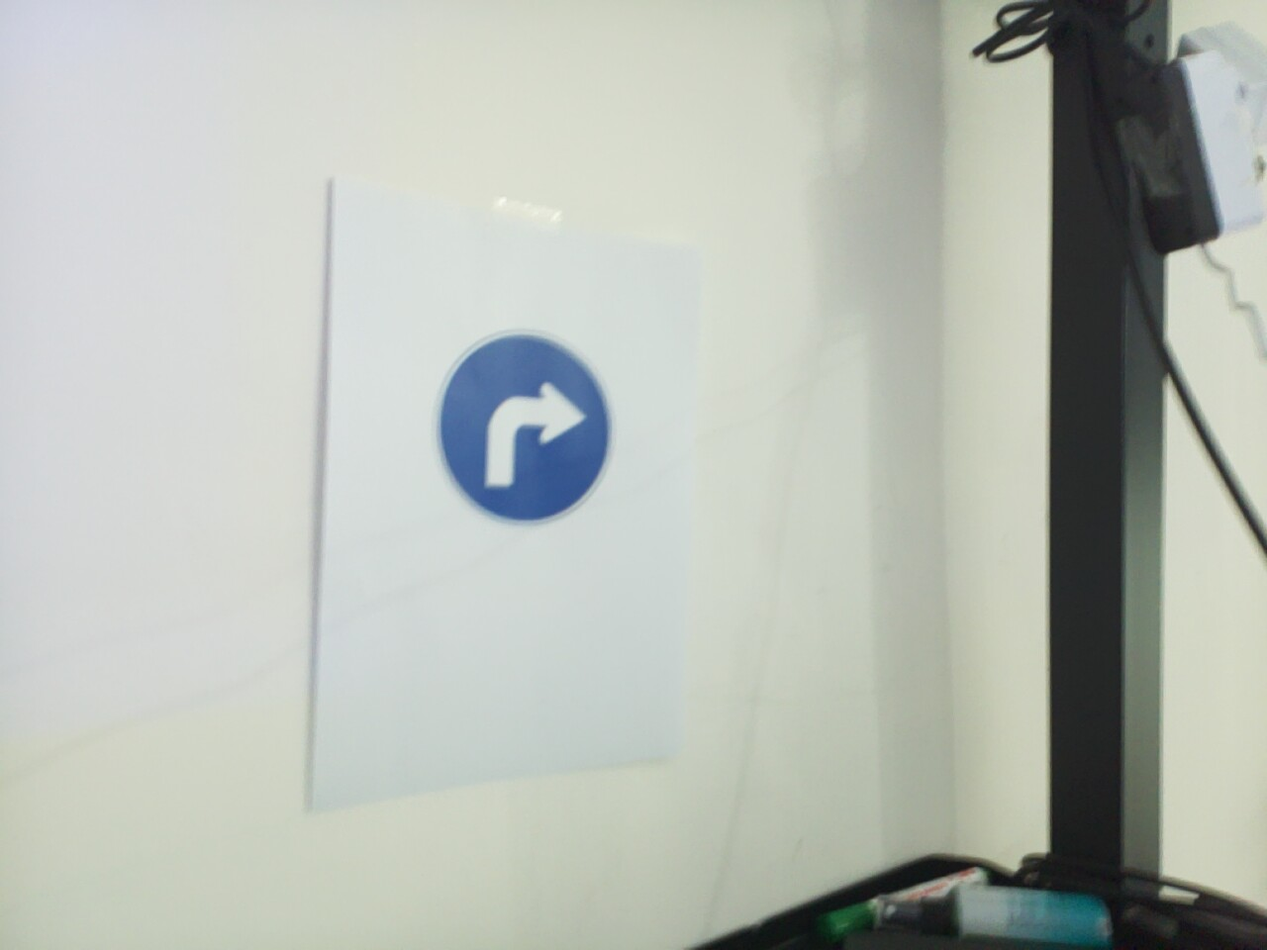right_turn: (858, 0, 1061, 942)
